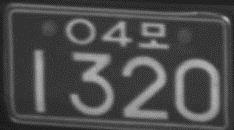0: (173, 57, 222, 123), (65, 17, 97, 45)
1: (22, 48, 60, 113)
2: (121, 55, 169, 121)
3: (68, 50, 114, 118)
4: (101, 20, 133, 47)
모: (137, 21, 170, 49)
